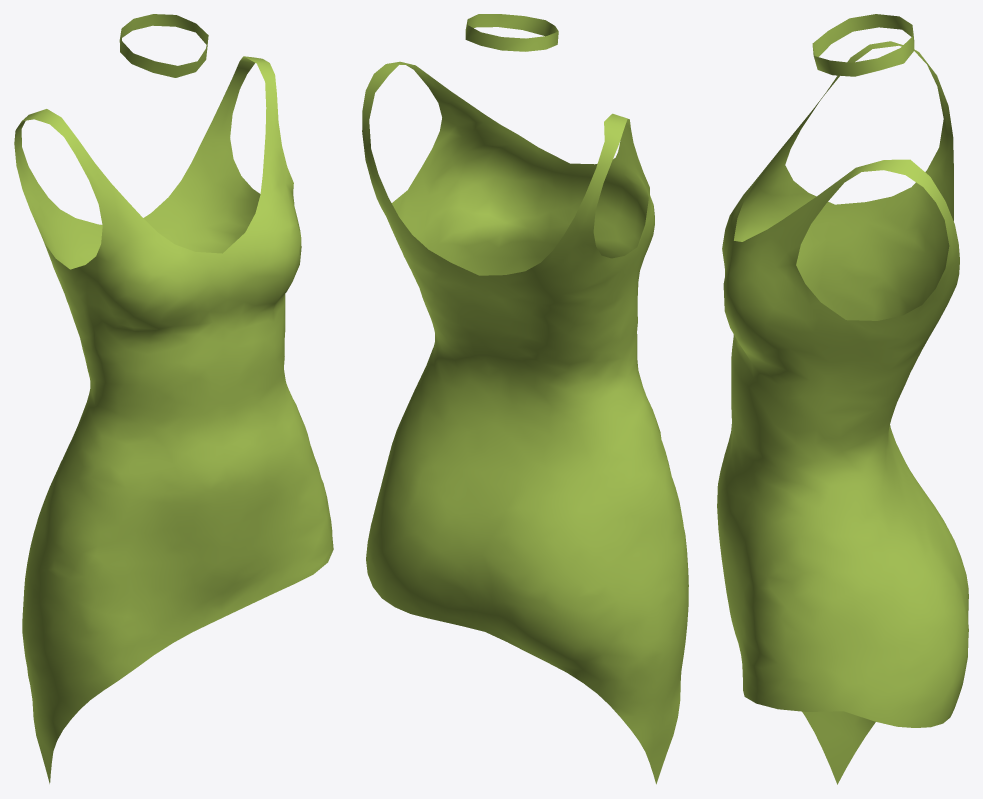
3 renders of one model, left to right at view 1: azimuth 30°, elevation 25°; view 2: azimuth 150°, elevation 25°; view 3: azimuth 270°, elevation 25°, orthographic. The views are drawn at different scales.
Parts seen in each view (by area): view 1: 01_FABRIC 1_FRONT_1309_0; view 2: 01_FABRIC 1_FRONT_1309_0; view 3: 01_FABRIC 1_FRONT_1309_0.
Part boxes in pixels (box(x1,y1,x2,y2)): 01_FABRIC 1_FRONT_1309_0: box(14, 14, 333, 783); 01_FABRIC 1_FRONT_1309_0: box(362, 14, 688, 784); 01_FABRIC 1_FRONT_1309_0: box(717, 14, 968, 784).
Size of the model in its own units: 0.3667 by 0.8859 by 0.245.
